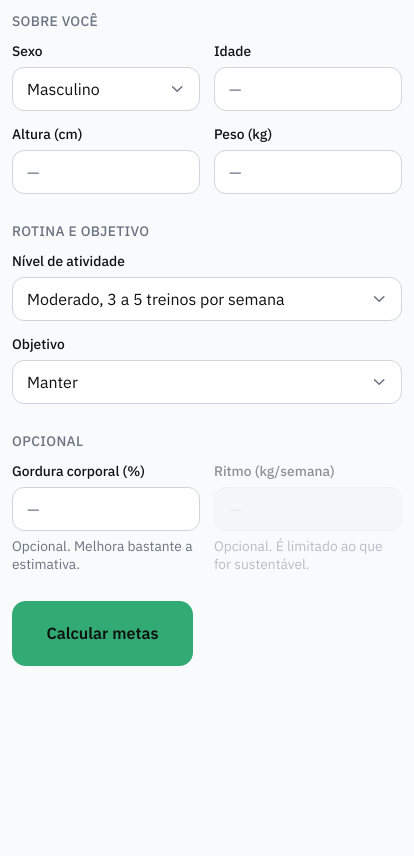
Test: weekly rate presets in the profile form › fills the free-text rate field when a preset is clicked
Select "Perder gordura" in the dropdown labelled "Objetivo" at (207, 382), box x1=12 y1=360 x2=402 y2=404
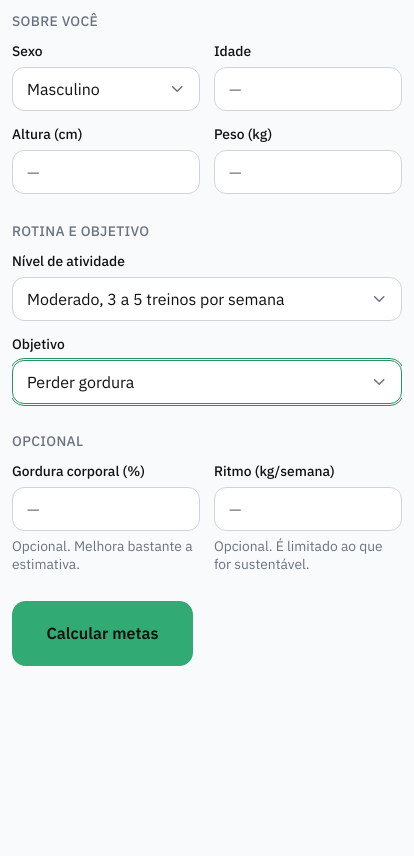
Type "60" into the field labelled "Peso (kg)" at (308, 172), box x1=214 y1=150 x2=402 y2=194
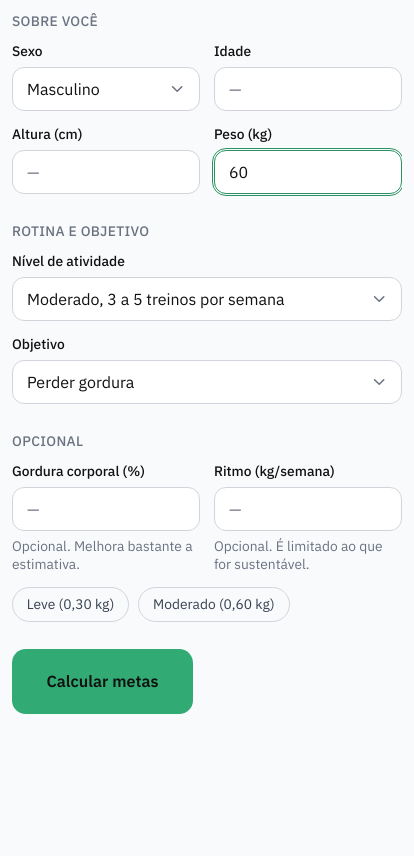
Click the button "Moderado (0,60 kg)" at (214, 604), box x1=138 y1=587 x2=290 y2=622
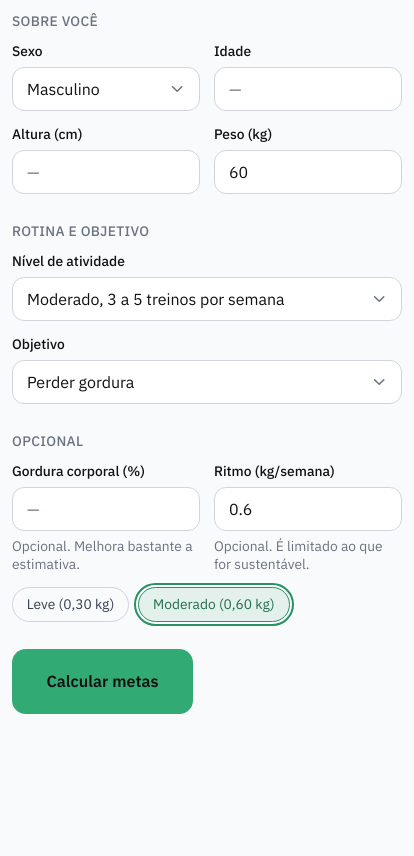
Now the field labelled "Ritmo (kg/semana)" holds "0.6", box x1=214 y1=487 x2=402 y2=531
